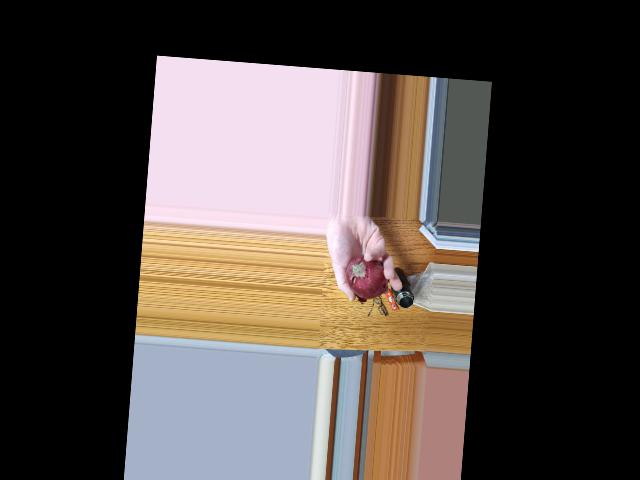onion: (344, 254, 386, 296)
